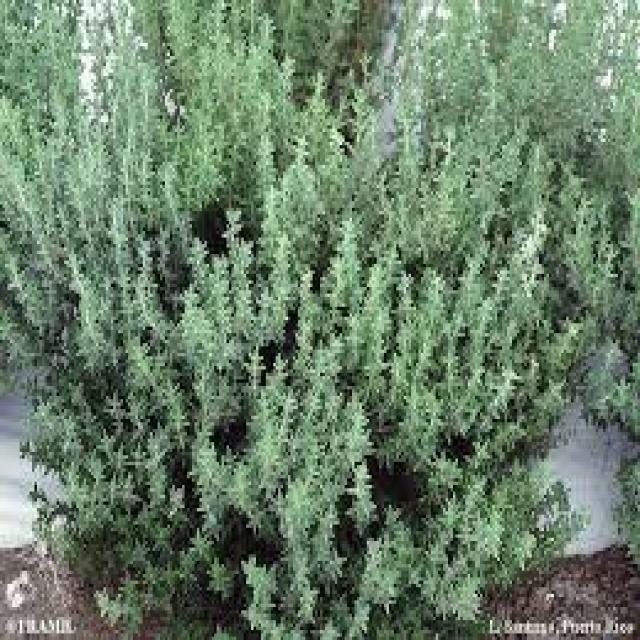Thyme: (20, 33, 638, 591)
